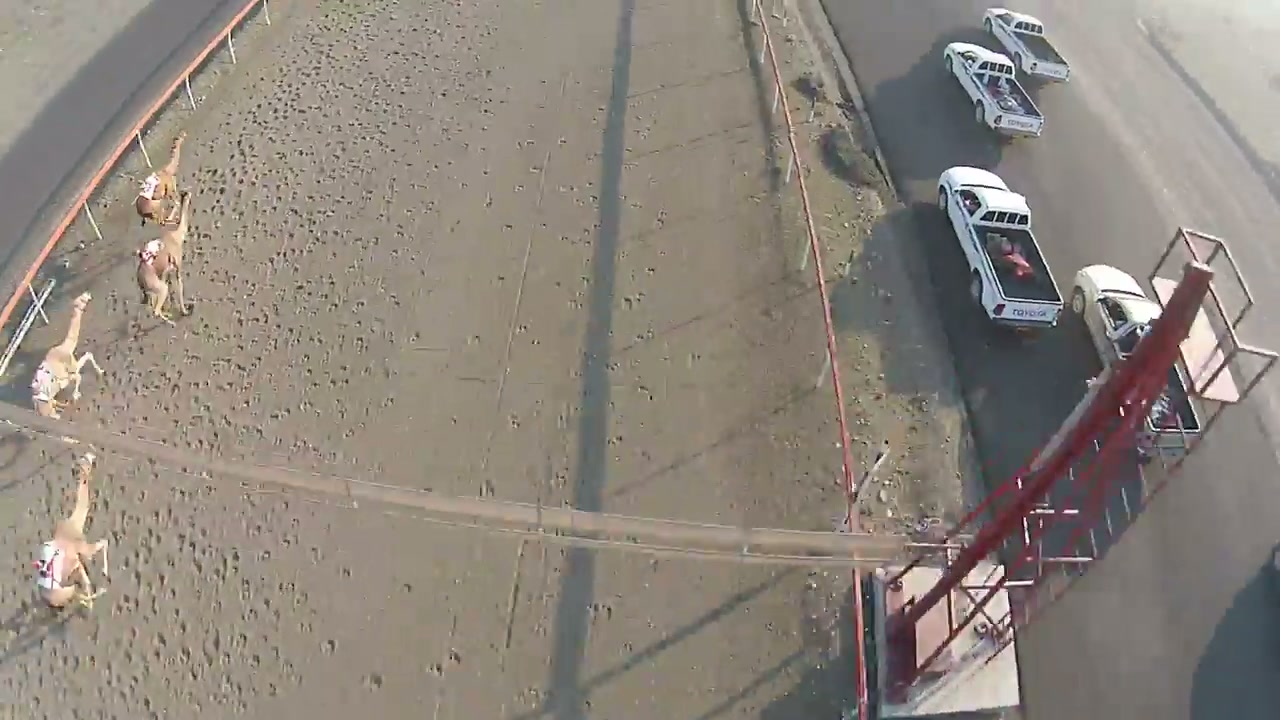animal_footprint: (0, 44, 457, 719), (369, 155, 582, 708)
